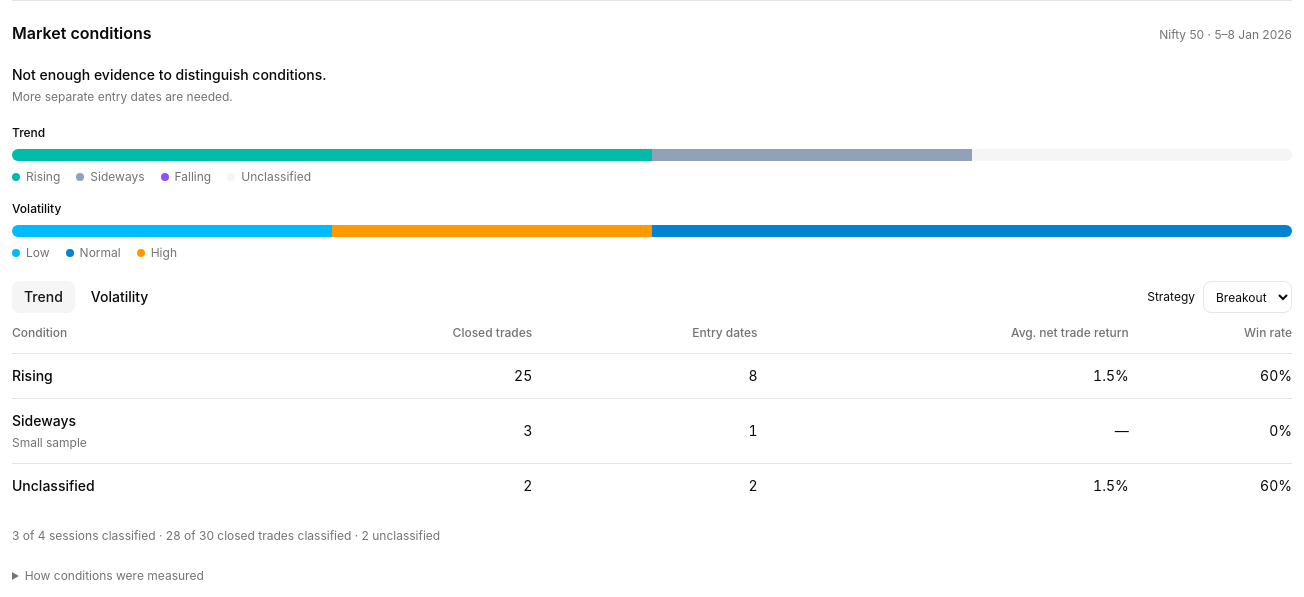
it: saved market conditions › uses combined coverage while keeping known volatility and unclassified trend visible
Expected: the text "3 of 4 sessions classified · 28 of 30 closed trades classified" is shown, [12,528,440,543]
Expected: the row "Unclassified 2 2 1.5% 60%" is shown, [12,464,1292,508]
Click the button "Volatility" at (120, 297), box [79,281,160,313]
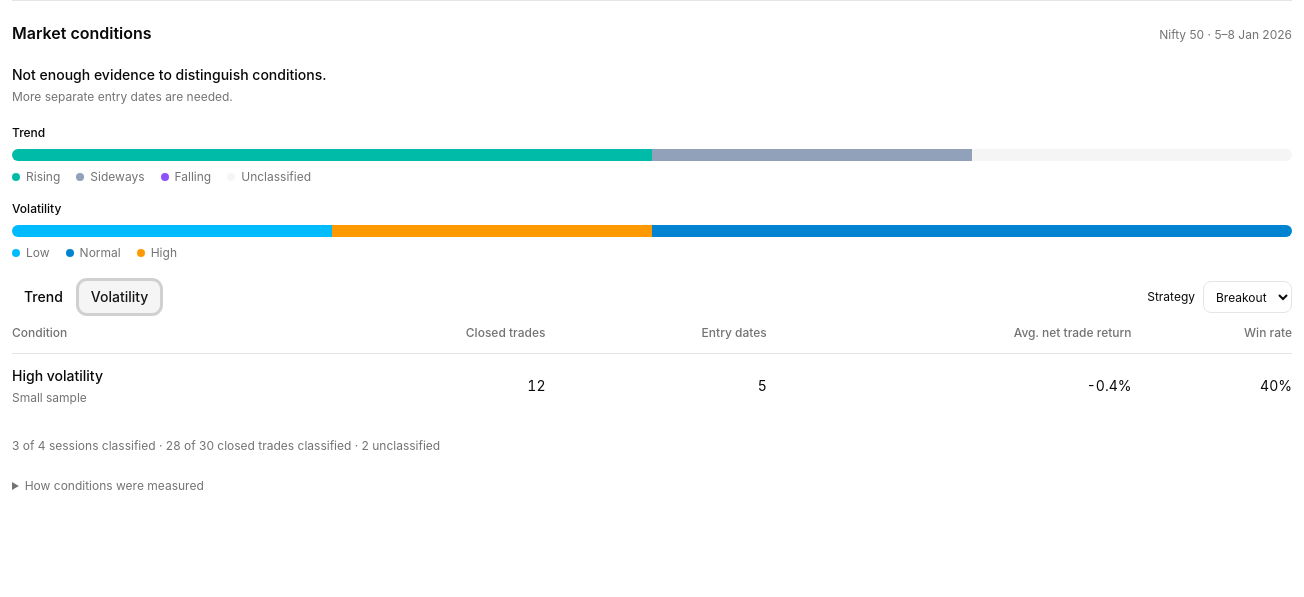
Expected: the text "3 of 4 sessions classified · 28 of 30 closed trades classified" is shown, [12,438,440,453]
Expected: the row "High volatility Small sample 12 5 -0.4% 40%" is shown, [12,354,1292,418]
